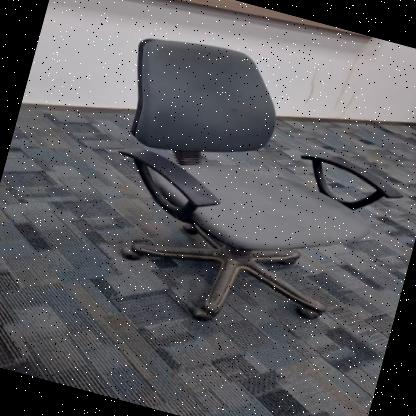chair: (60, 16, 416, 369)
